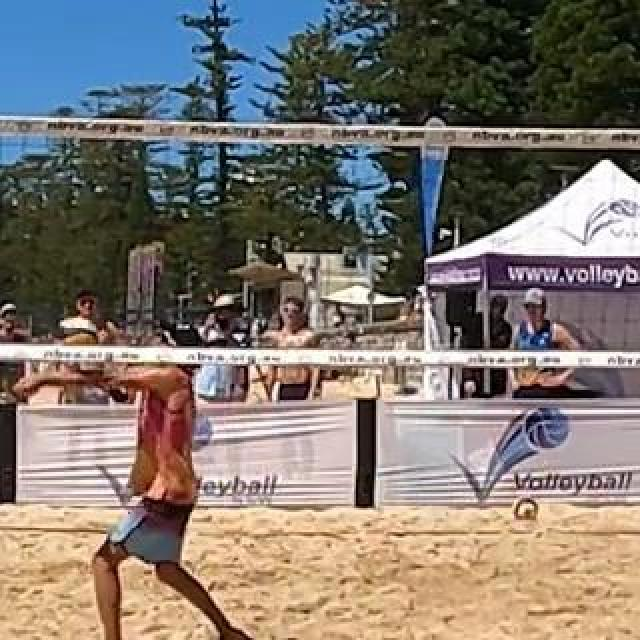volleyball: (53, 316, 101, 364), (512, 497, 540, 523)
